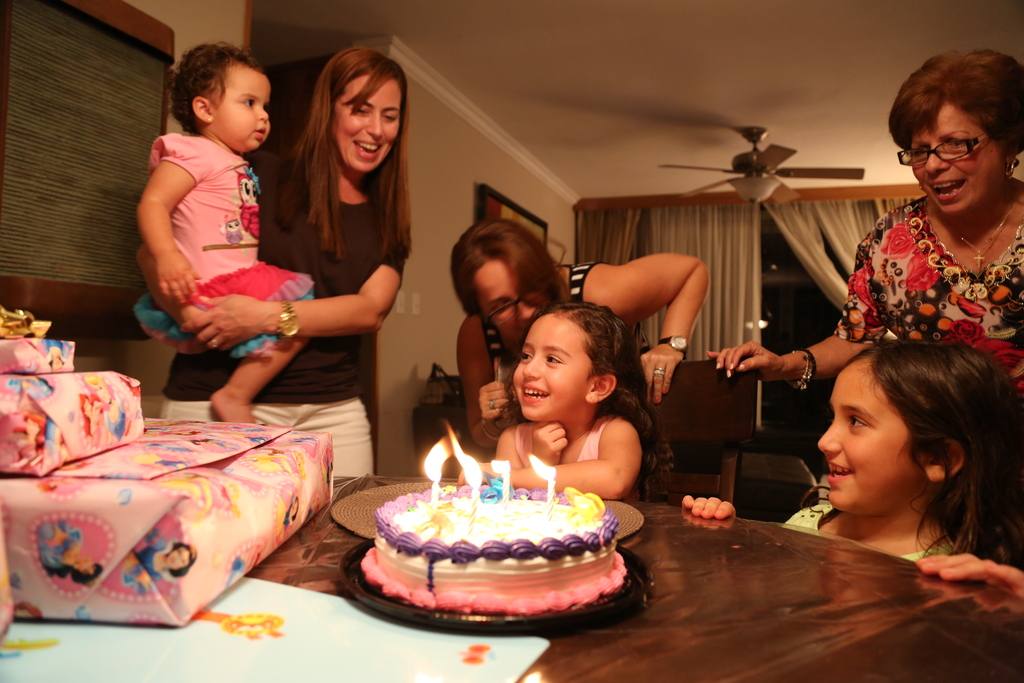cake: (356, 482, 626, 617)
